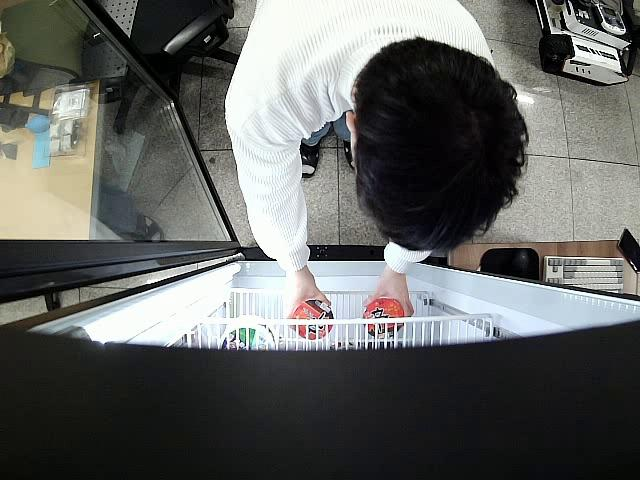00_hand: (286, 269, 332, 331), (363, 268, 415, 318)
02_shinRamen_S: (291, 297, 336, 339), (362, 296, 404, 337)
